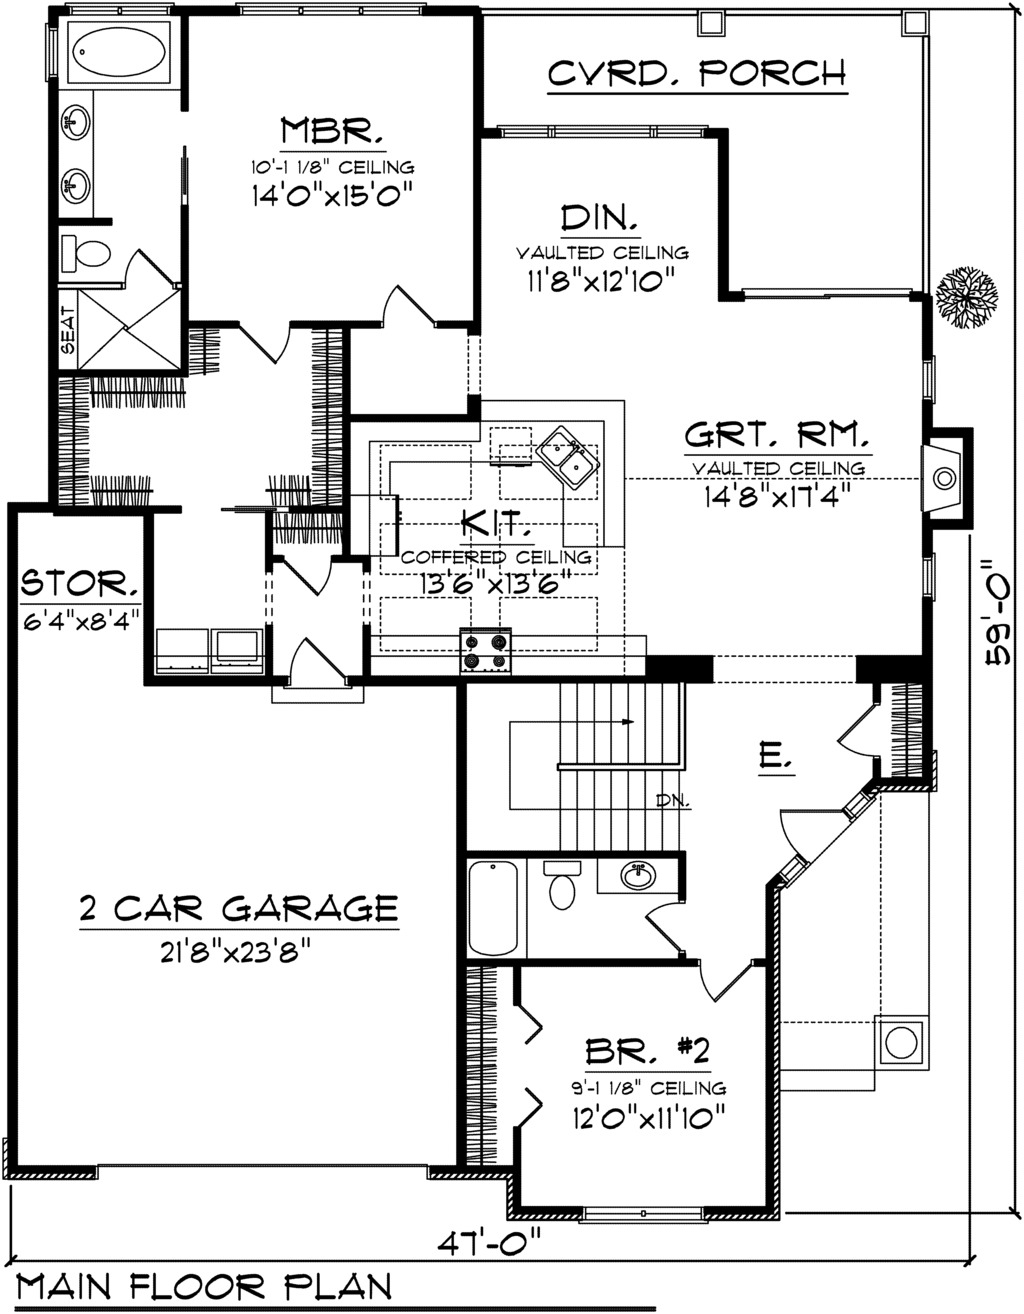door: (268, 625, 375, 705), (761, 782, 855, 862), (227, 306, 308, 370), (260, 536, 342, 599), (691, 956, 766, 1010), (371, 275, 441, 332), (837, 694, 891, 763), (649, 895, 699, 959)
large_sink: (519, 847, 585, 912), (52, 226, 122, 281)
small_sink: (50, 86, 103, 226), (591, 852, 683, 903)
stairs: (465, 686, 692, 853)
tub: (62, 12, 187, 89), (471, 847, 529, 964)
twin_sink: (521, 408, 617, 510)
window: (493, 105, 704, 140), (572, 1195, 708, 1236), (231, 3, 443, 25), (906, 548, 957, 618), (912, 351, 953, 405)
